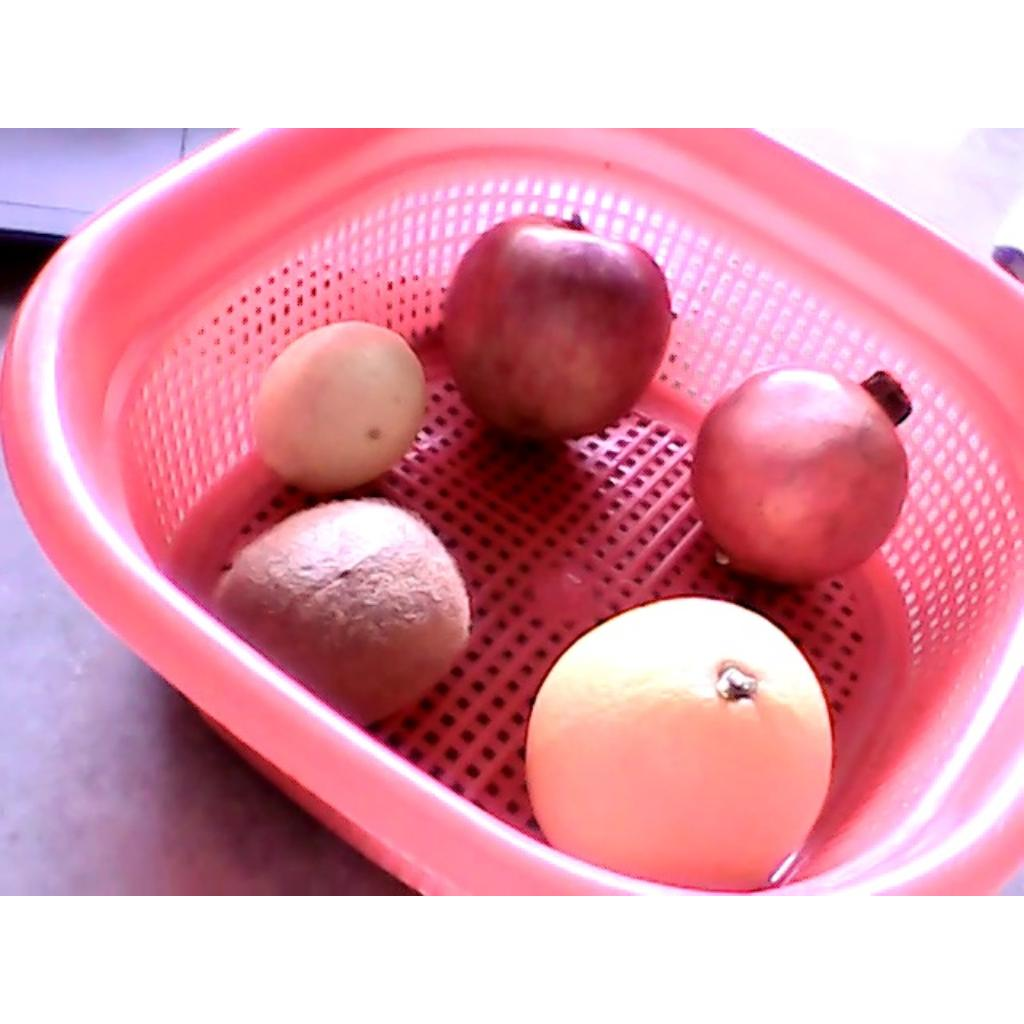apple: (442, 212, 672, 441)
kiwi: (213, 500, 470, 727)
lemon: (252, 320, 427, 494)
orange: (524, 597, 833, 893)
pomegranate: (689, 366, 911, 587)
